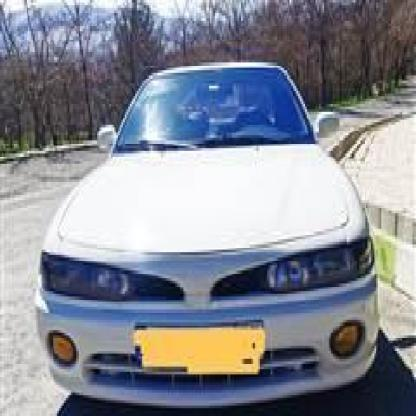Car: (34, 57, 372, 395)
